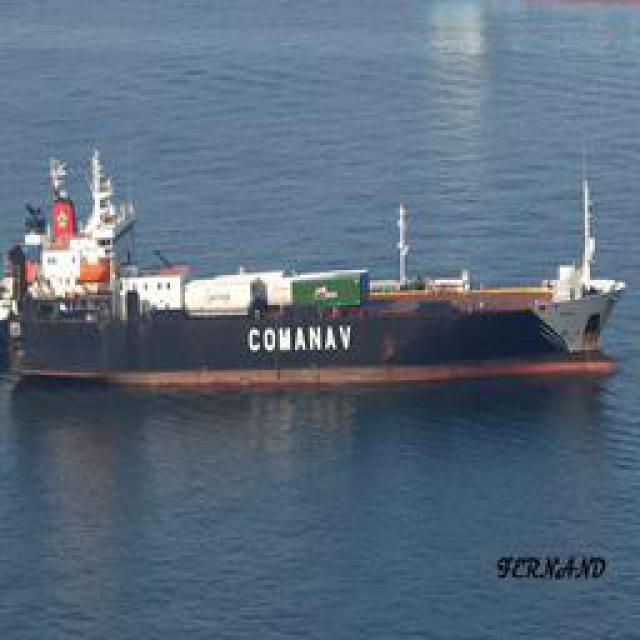Ship: (17, 153, 625, 391)
